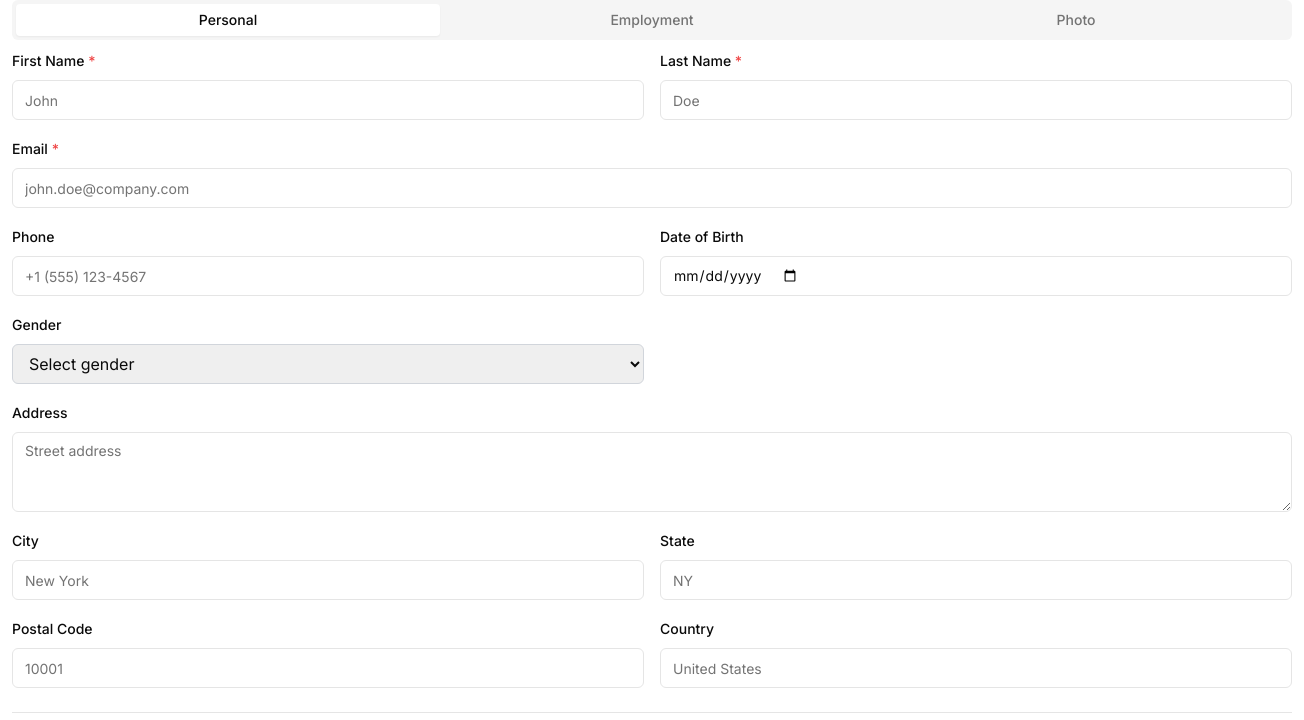
Scenario: EmployeeForm › Validation › should validate email format
Type "invalid-email" into the field labelled "Email *" at (652, 188), box [12,168,1292,208]
(page scrolled)
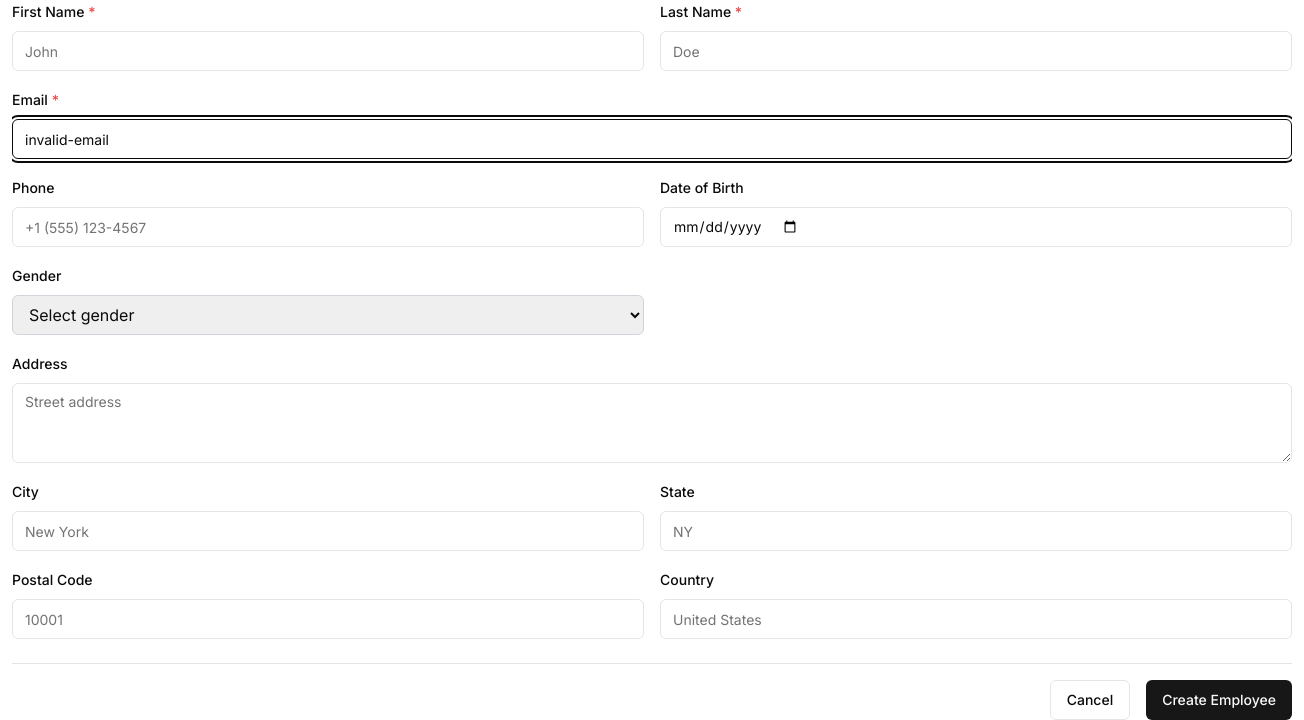
Click the button "Create Employee" at (1219, 700), box [1146,680,1292,719]
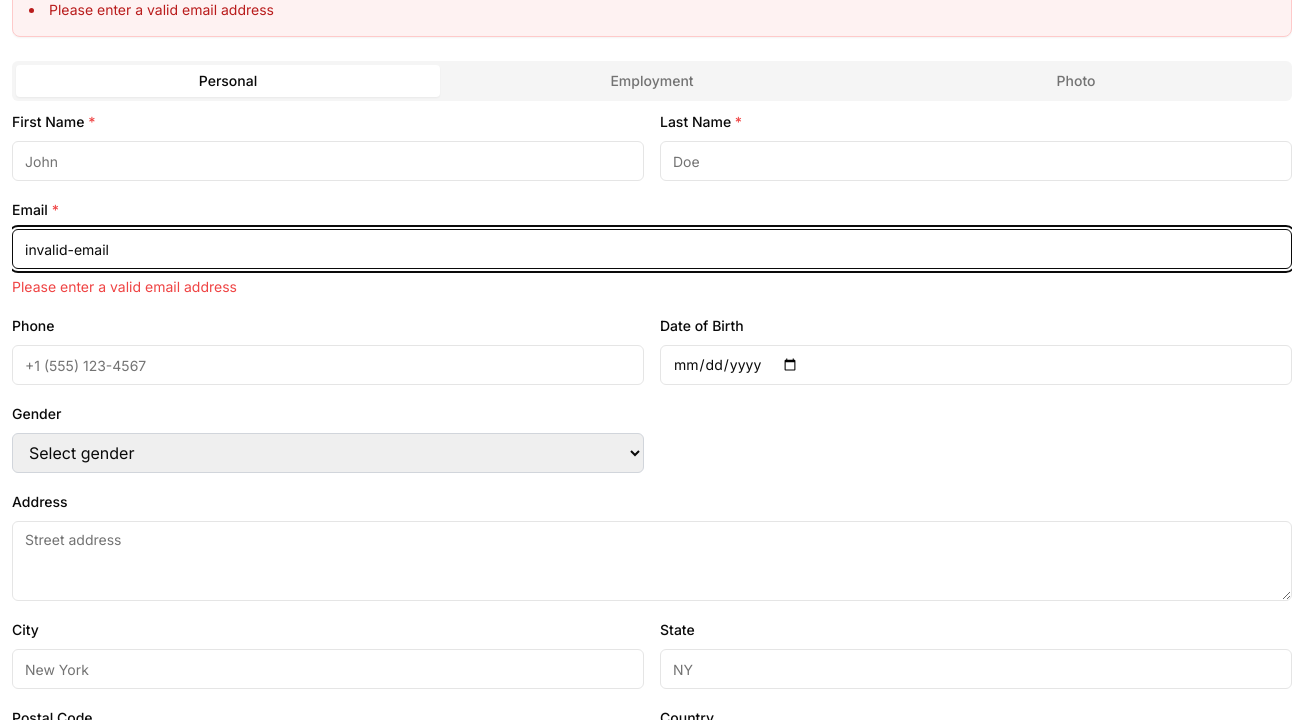
Expected: the list item "Please enter a valid email address" is shown, [49,1,274,18]
